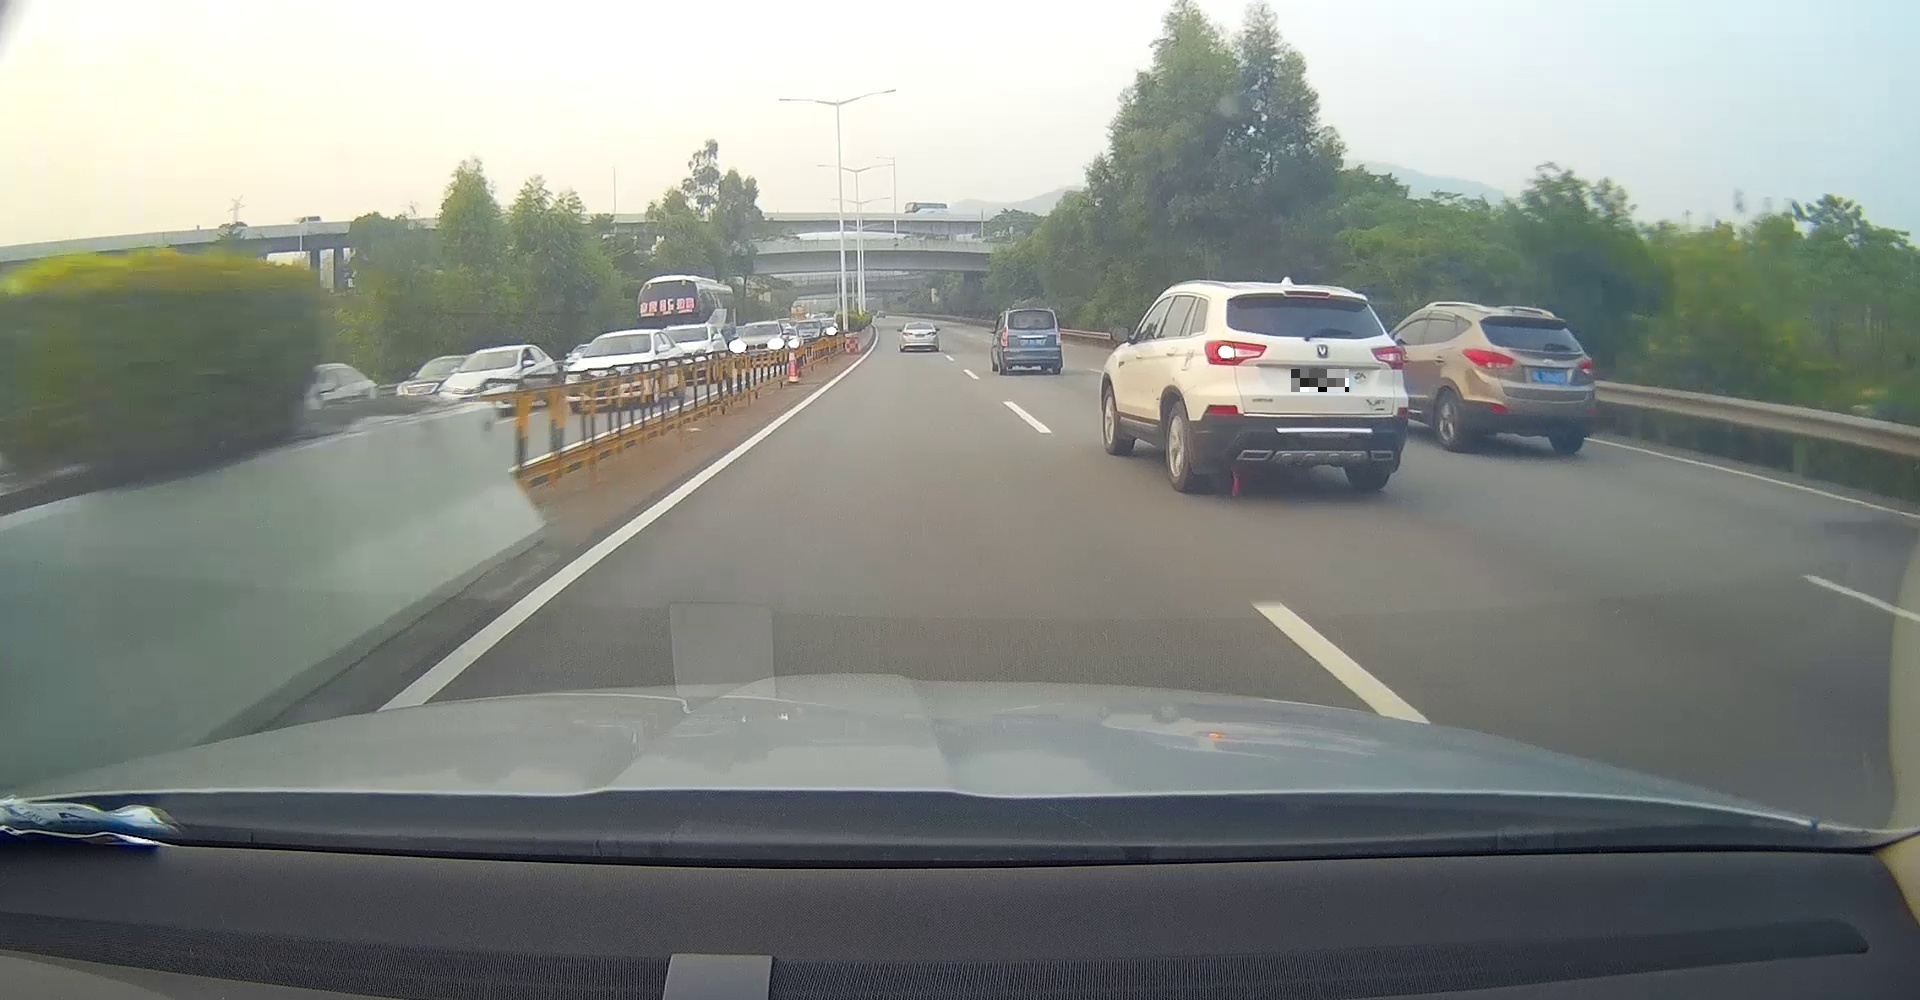L_light: (1204, 339, 1266, 365), (1462, 346, 1515, 369), (1001, 326, 1008, 346), (902, 332, 912, 335)
R_light: (1371, 345, 1404, 371), (1578, 354, 1594, 374), (1057, 327, 1062, 346), (927, 332, 936, 335)
T_light: (1283, 291, 1331, 297), (1521, 317, 1550, 324), (1026, 326, 1037, 329), (917, 324, 923, 326)
day-left: (1200, 282, 1410, 491)
day-no: (1458, 305, 1597, 454), (999, 308, 1063, 376), (898, 322, 940, 352)
plate_1: (1291, 369, 1349, 392)
